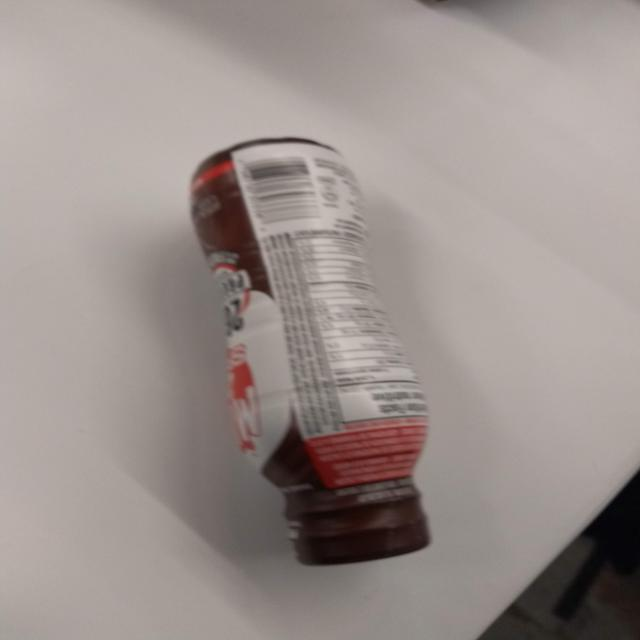chocolate_drink: (180, 130, 449, 572)
